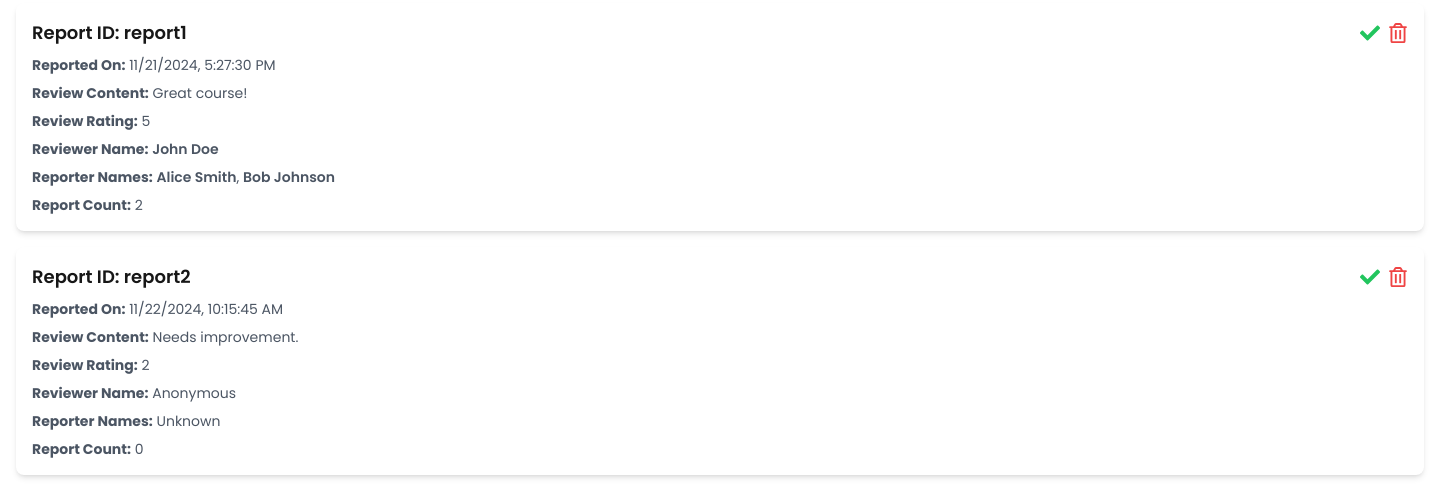
Test: Admin Component › handles deleteReview action correctly
Expected: the heading "Report ID: report1" is shown, [32,19,187,47]
# Click the delete button for the first report's review
Click the button named "Delete Review" in the row of "report1": click(1398, 33) [1388,19,1408,47]
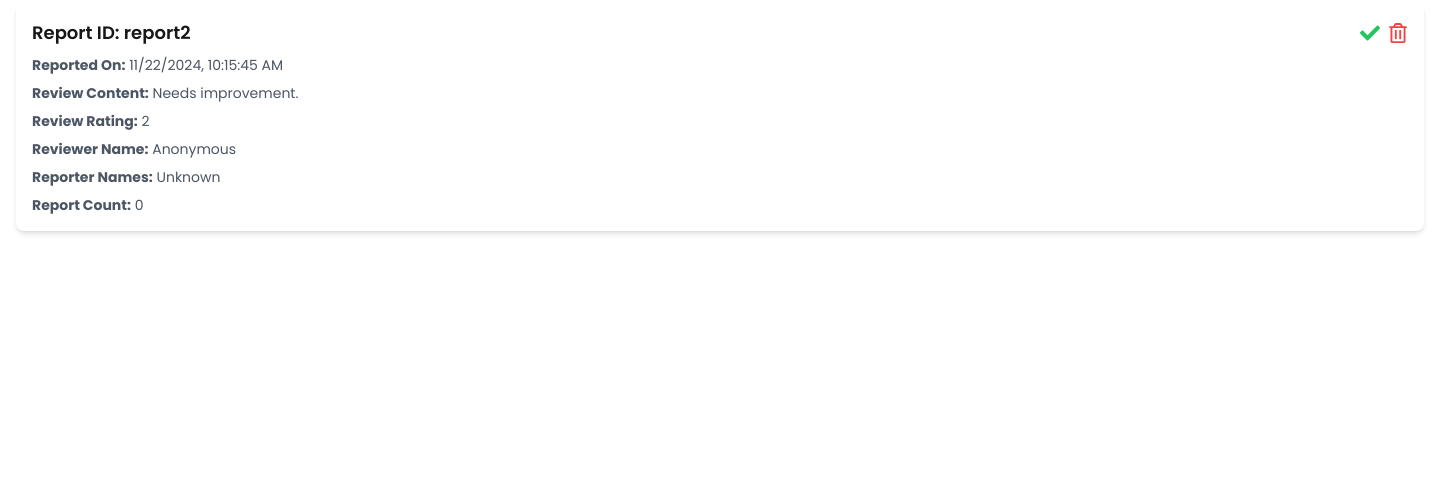
Result: the heading "Report ID: report1" is gone
